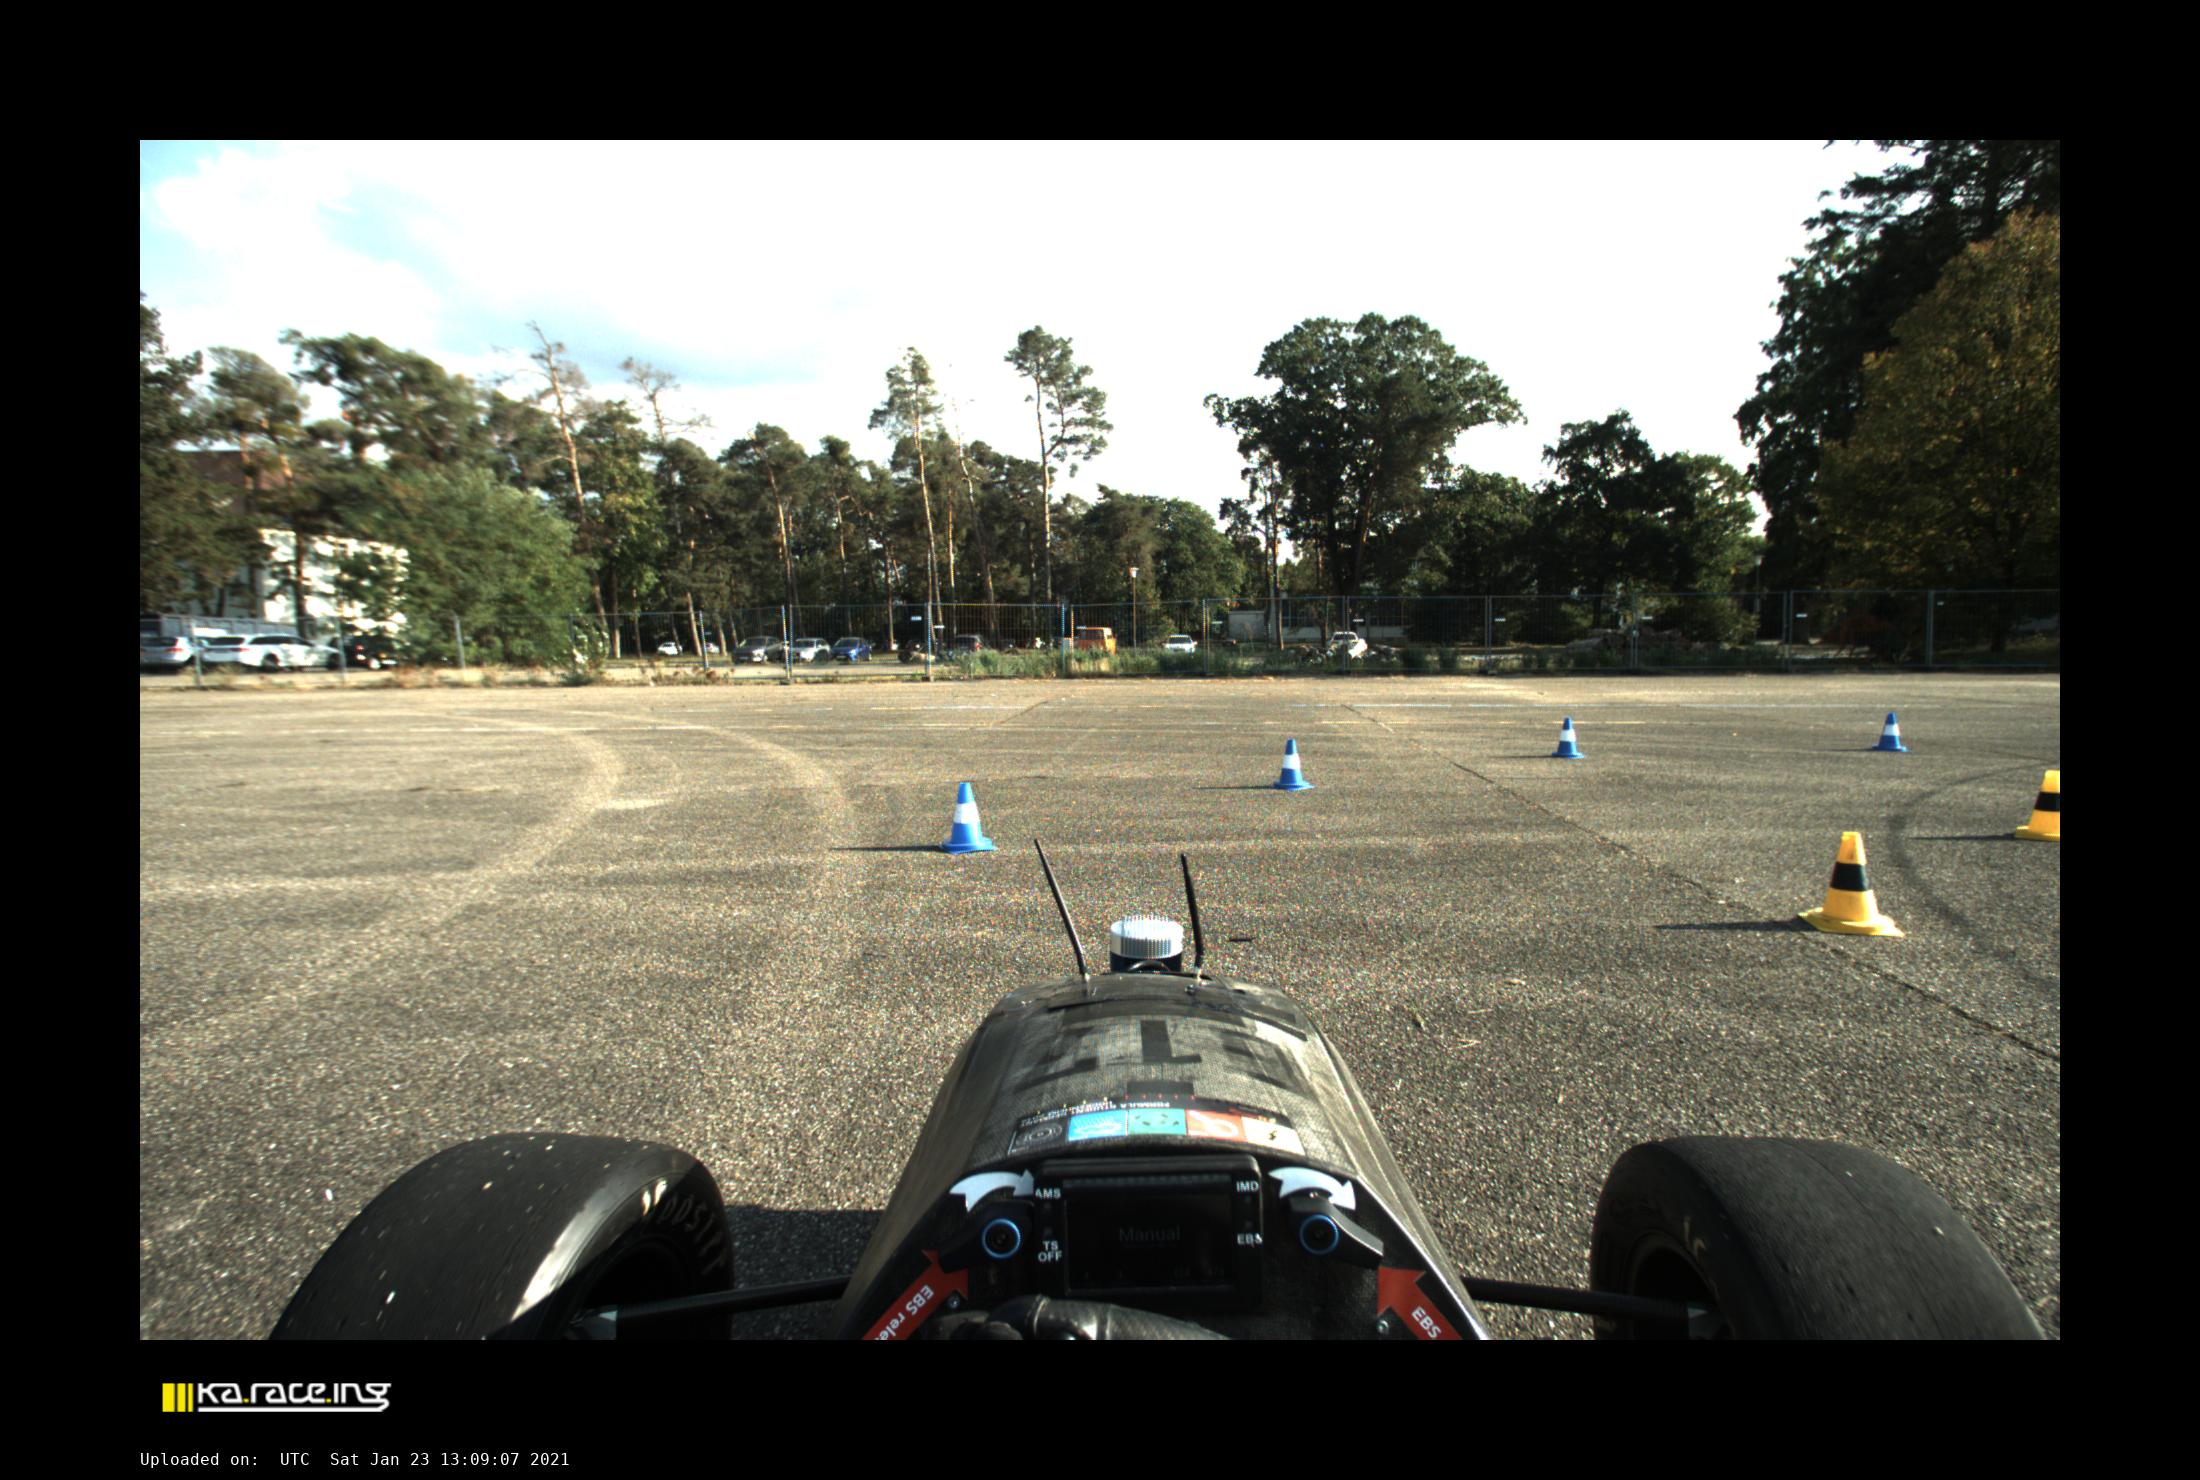blue_cone: (938, 783, 997, 853), (1274, 739, 1314, 792), (1551, 717, 1584, 758), (1872, 713, 1906, 752)
yellow_cone: (1798, 832, 1906, 937), (2015, 769, 2060, 843)
